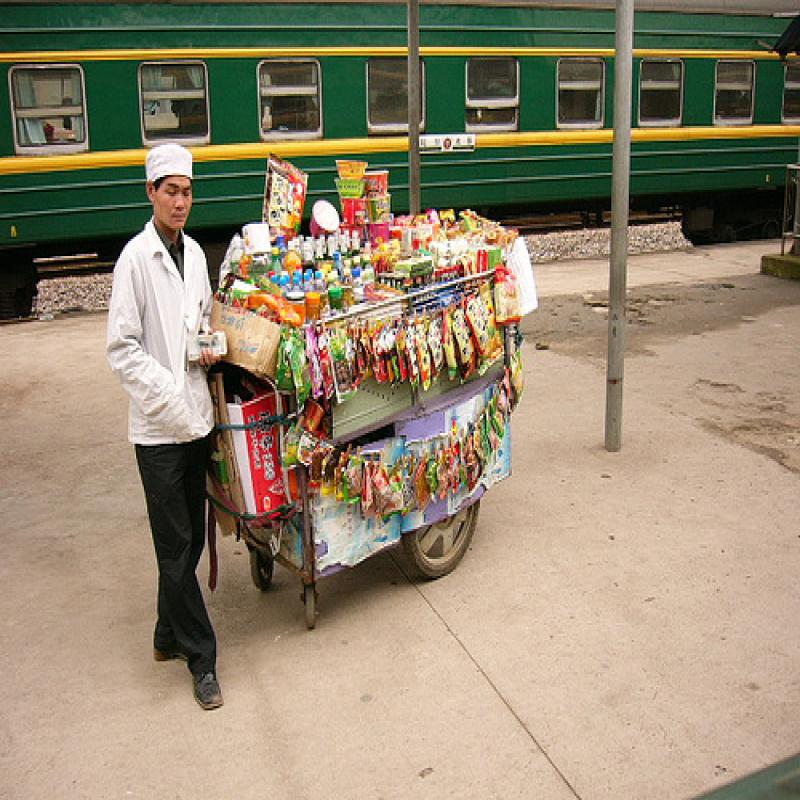train: (1, 1, 799, 314)
